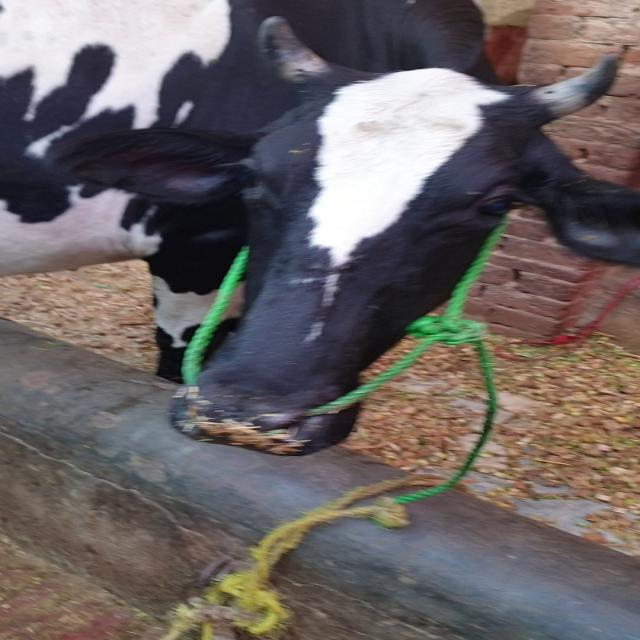cowFace: (141, 62, 597, 460)
